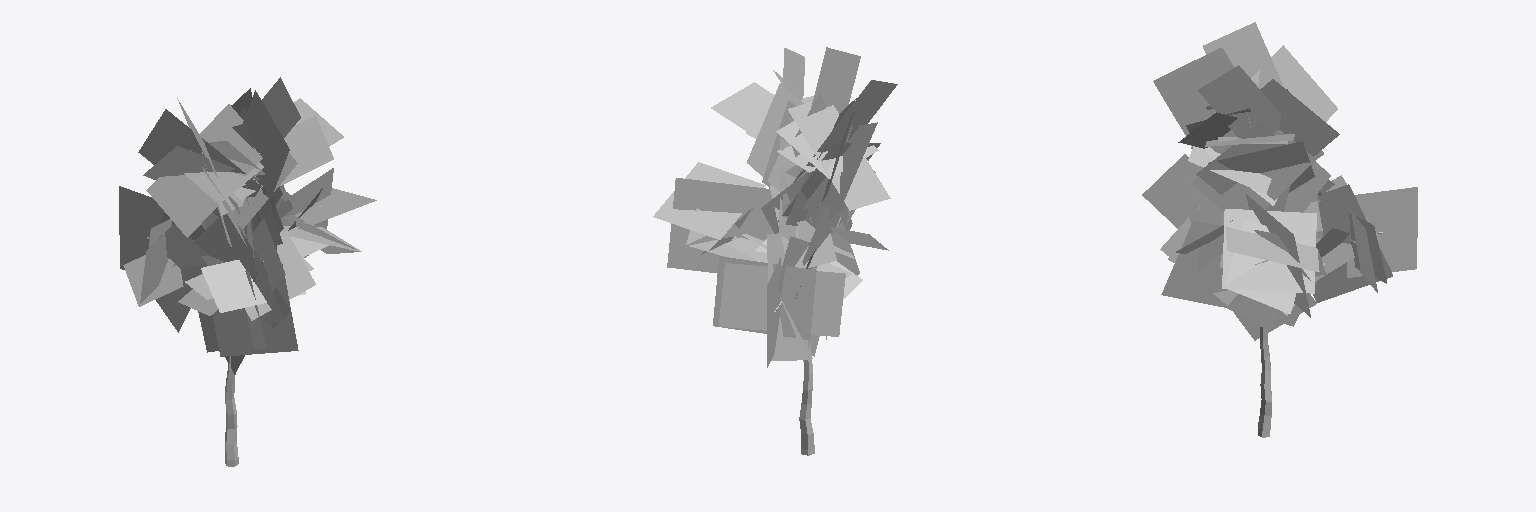
The model's file is ntree1.obj.
3 views of the same model, side by side, from view 1: azimuth 30°, elevation 25°; view 2: azimuth 150°, elevation 25°; view 3: azimuth 270°, elevation 25° (orthographic).
Size of the model in its own units: 6.21 by 12.08 by 7.77.